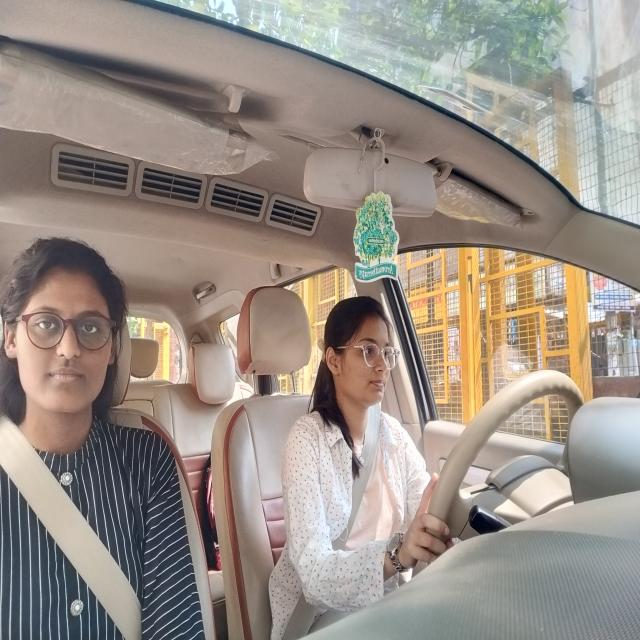person: (13, 250, 120, 408), (324, 290, 397, 416)
